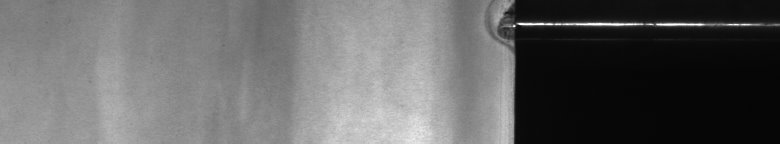hb: (480, 4, 504, 53)
